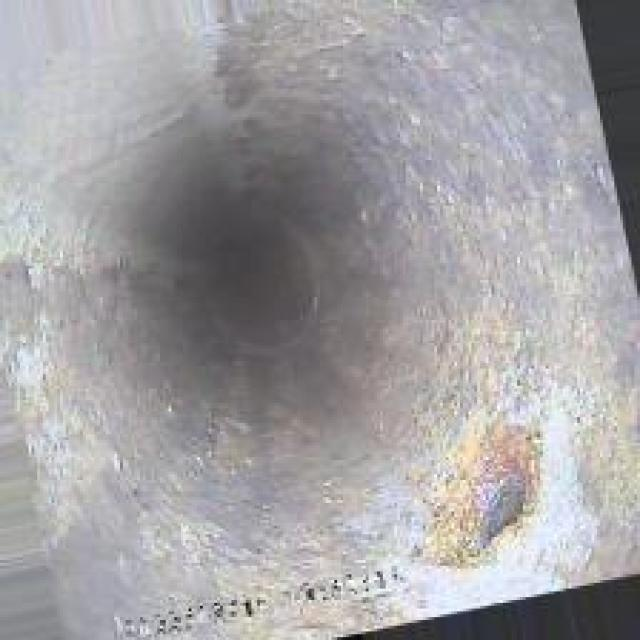ferrule: (431, 437, 543, 554)
